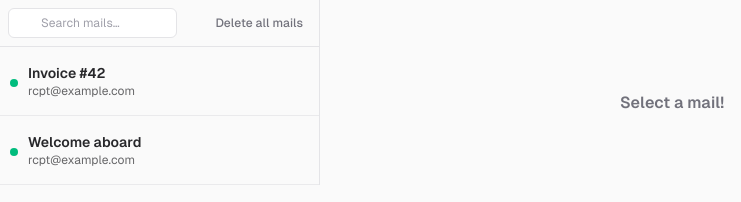
Test case: Mailbox screen › restores the full list when the search is cleared
Step 1. Type "invoice" into the field named "Search mails…" → (93, 23), box [8,8,177,38]
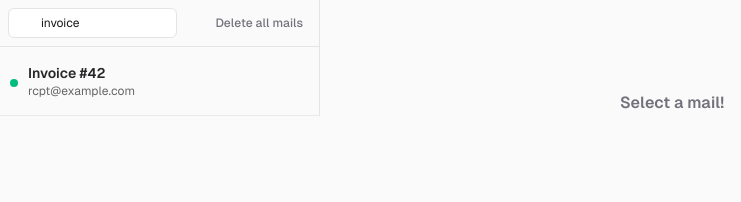
Now the text "Welcome aboard" is gone
Step 2. Clear the field named "Search mails…" → (93, 23), box [8,8,177,38]
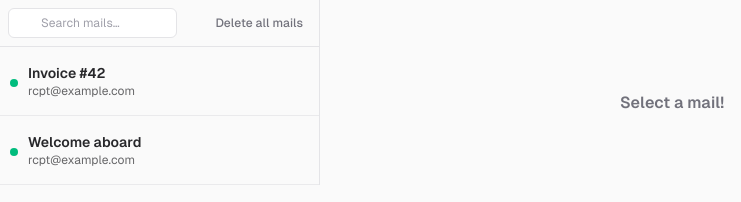
Expected: the text "Invoice #42" is shown, [28,65,106,81]
Now the text "Welcome aboard" is shown, box [28,134,141,150]
